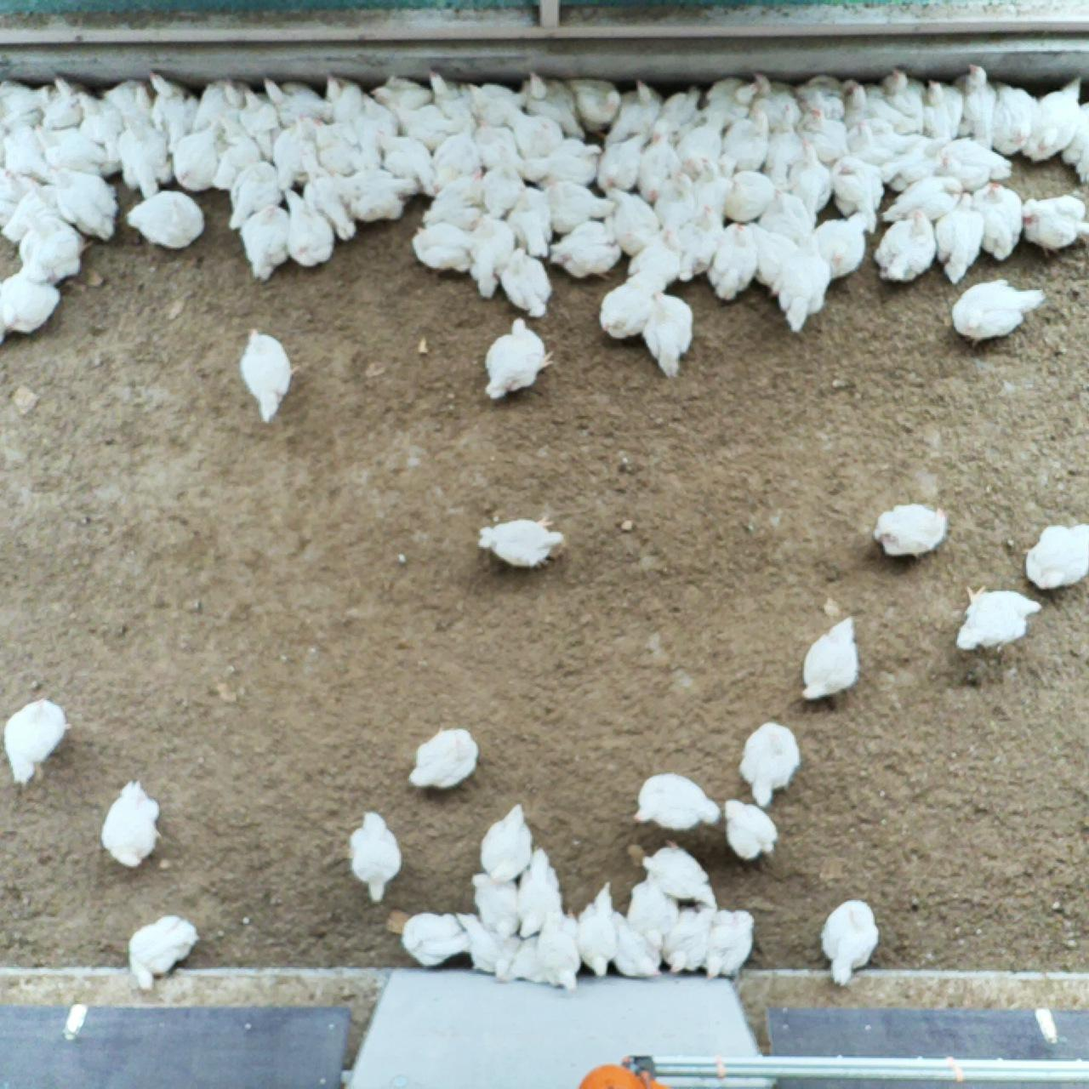chicken: (125, 913, 201, 995), (480, 321, 556, 403), (948, 279, 1039, 347), (299, 153, 364, 246), (100, 778, 166, 869), (5, 698, 70, 790), (46, 164, 119, 245), (773, 230, 830, 331), (513, 68, 589, 143), (952, 588, 1041, 652), (639, 840, 719, 911), (457, 910, 533, 984), (600, 898, 666, 981), (819, 899, 879, 988), (415, 165, 497, 230), (592, 180, 661, 257), (738, 722, 802, 805), (242, 331, 300, 420), (425, 119, 490, 197), (331, 169, 423, 224), (476, 513, 567, 568), (1022, 77, 1085, 155), (742, 71, 815, 138), (33, 122, 117, 180), (349, 813, 404, 901), (126, 192, 204, 254), (1021, 185, 1089, 255), (97, 74, 169, 140), (637, 773, 720, 830), (577, 883, 624, 983), (801, 619, 859, 700), (478, 803, 535, 885), (19, 211, 87, 279), (526, 178, 616, 229), (145, 65, 206, 140), (516, 848, 564, 943), (0, 269, 60, 344), (241, 202, 295, 285), (949, 63, 1004, 144), (840, 78, 915, 137), (873, 212, 936, 282), (931, 191, 984, 274), (647, 290, 696, 379), (411, 728, 481, 790), (226, 162, 288, 232), (518, 136, 603, 187), (654, 905, 715, 976), (813, 209, 872, 282), (876, 500, 950, 558), (254, 73, 333, 127), (282, 188, 334, 270), (741, 218, 801, 289), (0, 162, 60, 233), (764, 103, 814, 188), (118, 118, 173, 195), (1025, 523, 1089, 589), (679, 162, 741, 228), (211, 116, 265, 191), (462, 74, 534, 130), (694, 911, 756, 976), (465, 215, 514, 297), (0, 115, 60, 181), (705, 219, 755, 298), (879, 70, 937, 138), (629, 873, 682, 947), (831, 160, 886, 231), (988, 78, 1040, 153), (671, 204, 721, 282), (600, 277, 659, 343), (544, 900, 585, 993), (782, 155, 838, 223), (975, 181, 1023, 260), (473, 871, 525, 943), (238, 84, 286, 162), (359, 94, 405, 175), (274, 116, 320, 197), (886, 174, 959, 225), (920, 78, 971, 151), (606, 81, 663, 146), (191, 76, 256, 133), (398, 915, 470, 966), (549, 226, 622, 276), (723, 798, 780, 861), (494, 246, 551, 309), (471, 115, 528, 177), (938, 138, 1007, 189), (760, 186, 819, 245), (376, 130, 433, 191), (483, 147, 530, 220), (631, 226, 678, 298), (703, 73, 761, 131), (785, 75, 858, 121), (427, 66, 477, 133), (388, 104, 455, 154), (170, 127, 221, 192), (502, 104, 562, 159), (719, 106, 768, 173), (832, 114, 897, 164), (508, 931, 565, 988), (797, 104, 852, 162), (315, 120, 369, 179), (507, 186, 555, 252), (597, 135, 650, 194), (568, 73, 622, 130), (77, 89, 125, 153), (660, 83, 708, 145), (412, 224, 478, 269), (0, 76, 54, 131), (651, 172, 697, 234), (47, 75, 99, 129), (636, 131, 679, 196), (722, 166, 770, 223), (321, 73, 374, 124), (373, 68, 432, 112), (675, 126, 727, 175), (882, 137, 935, 185), (1067, 98, 1089, 186)
